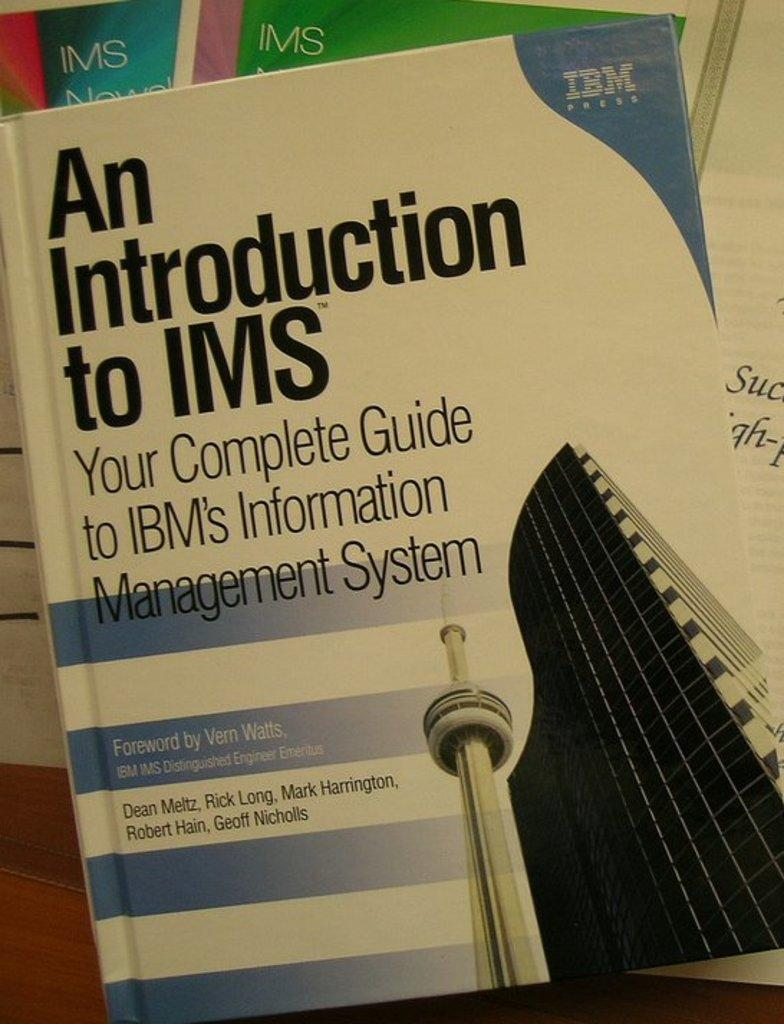Computer-keyboard: (503, 439, 782, 987)
